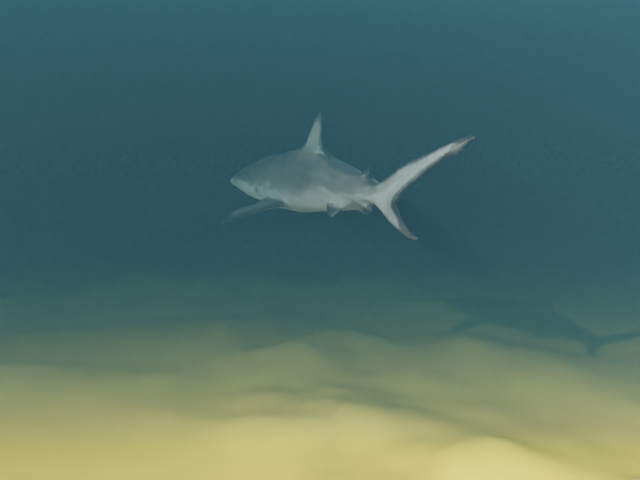Carribean Shark.001: (221, 112, 475, 240)
